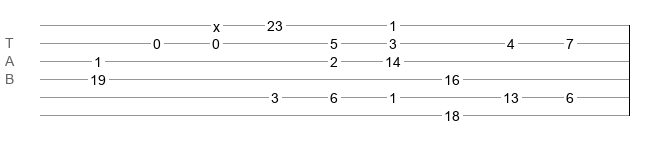0: (153, 36, 161, 46), (212, 36, 220, 46)
1: (94, 54, 102, 64), (389, 90, 397, 100), (389, 18, 397, 28)
13: (503, 90, 519, 100)
14: (385, 54, 401, 64)
16: (444, 72, 460, 82)
18: (444, 108, 460, 118)
19: (90, 72, 106, 82)
2: (330, 54, 338, 64)
23: (267, 18, 283, 28)
3: (271, 90, 279, 100), (389, 36, 397, 46)
4: (507, 36, 515, 46)
5: (330, 36, 338, 46)
6: (330, 90, 338, 100), (566, 90, 574, 100)
7: (566, 36, 574, 46)
x: (213, 19, 220, 27)
